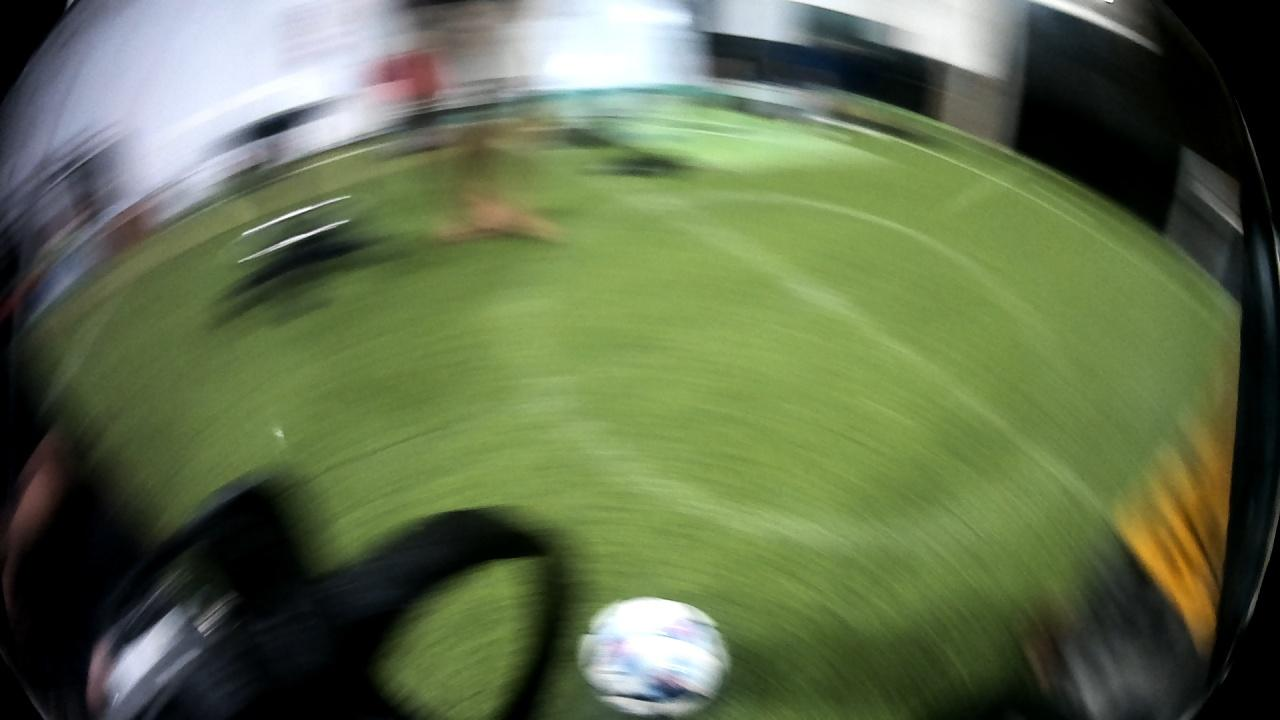ball: (566, 587, 750, 720)
